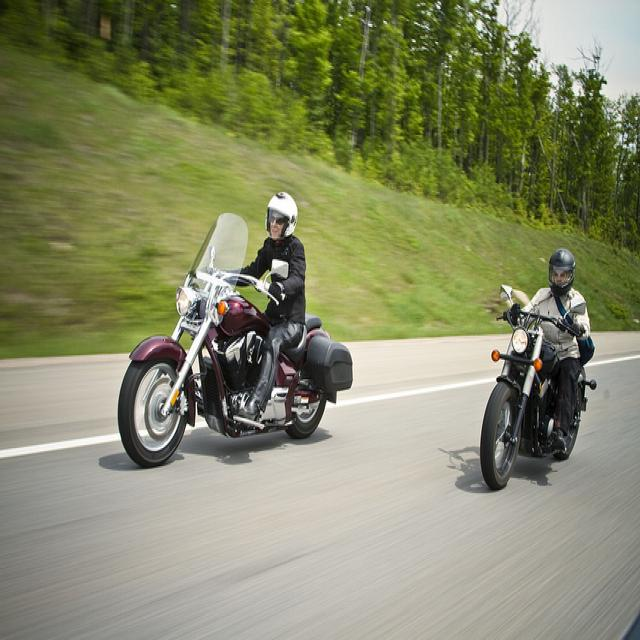motor: (117, 211, 357, 472), (481, 283, 598, 490)
